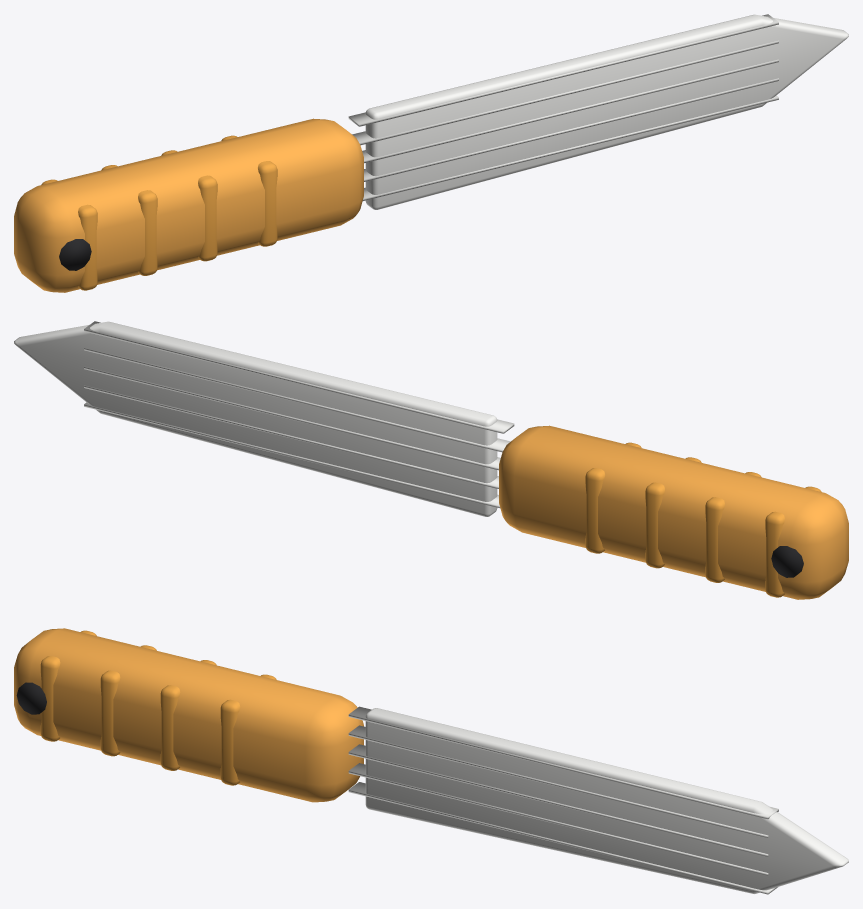
Rendered from SM_PrintKnife.glb.
3 renders of one model, top to bottom at view 1: azimuth 30°, elevation 25°; view 2: azimuth 150°, elevation 25°; view 3: azimuth 330°, elevation 25°, orthographic.
Visible parts, largest first — view 1: SM_PrintKnife; view 2: SM_PrintKnife; view 3: SM_PrintKnife.
Part boxes in pixels (x1,y1,x2,y2): SM_PrintKnife: [14, 14, 848, 292]; SM_PrintKnife: [14, 321, 848, 599]; SM_PrintKnife: [14, 628, 848, 894].
Size of the model in its own units: 0.2743 by 0.031 by 0.026.
